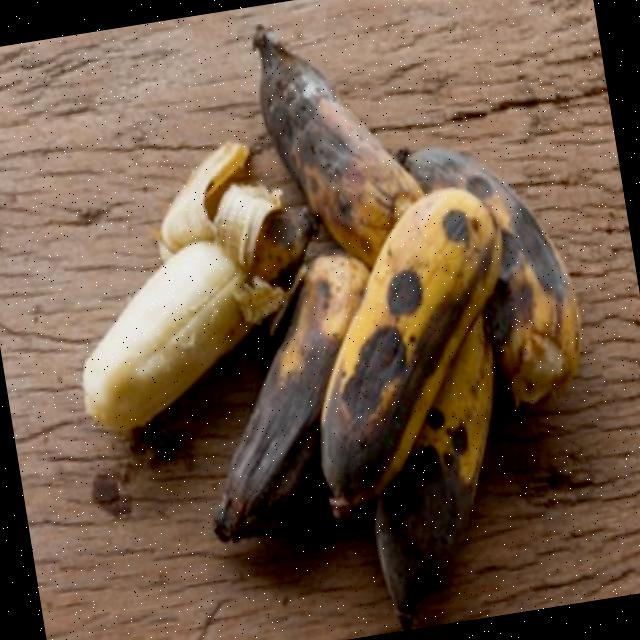rotten banana: (181, 0, 640, 636)
